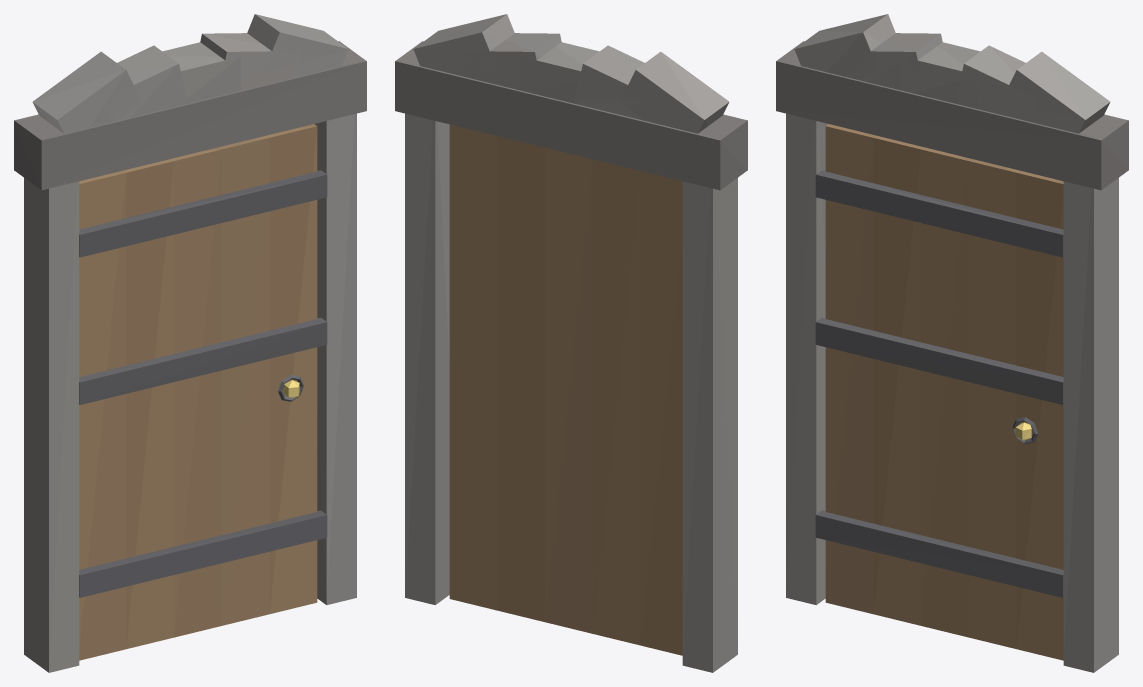
File: door.glb
3 views of the same model, side by side, from view 1: azimuth 30°, elevation 25°; view 2: azimuth 150°, elevation 25°; view 3: azimuth 330°, elevation 25° (orthographic).
Parts seen in each view (by area): view 1: door; view 2: door; view 3: door.
Part boxes in pixels (left/top/right/bottom): door: left=14, top=14, right=366, bottom=672; door: left=395, top=14, right=747, bottom=672; door: left=776, top=14, right=1128, bottom=672.
Size of the model in its own units: 1.5 by 2.58 by 0.2629.
